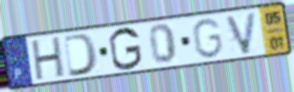0: (147, 22, 179, 66)
D: (62, 32, 101, 79)
G: (107, 26, 144, 72), (190, 17, 225, 60)
H: (30, 35, 66, 83)
V: (223, 10, 259, 57)
